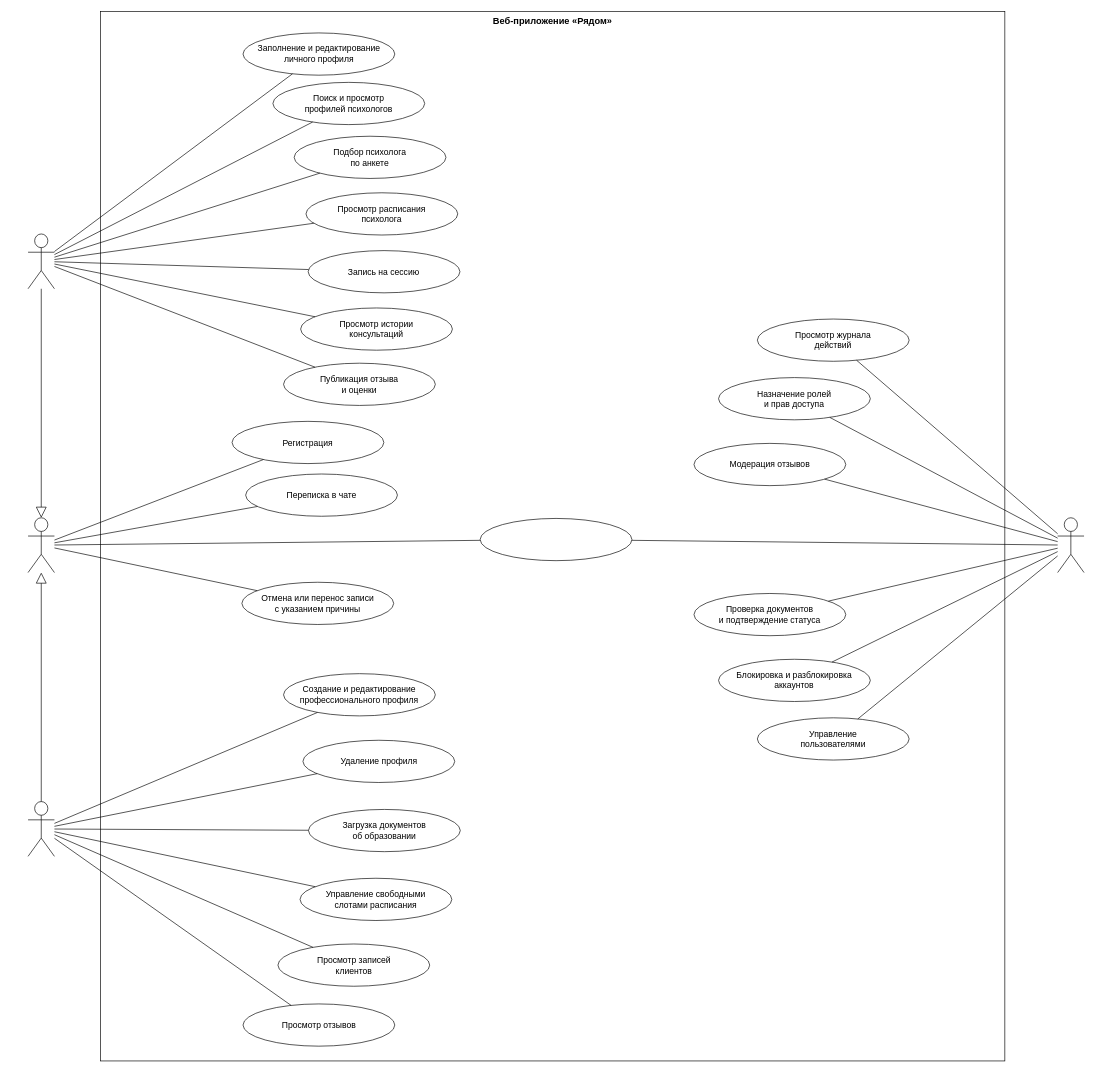
The diagram is 1106 pixels wide and 1073 high, and some of its shapes have lost their labels. The shapes that lost their labels are listed below. From the top down, each one's centre as x and y in pixels, then its label:
At pixel 40 261: "Клиент".
At pixel 40 545: "Пользователь".
At pixel 555 539: "Авторизация".
At pixel 1070 545: "Модератор".
At pixel 40 828: "Психолог".
